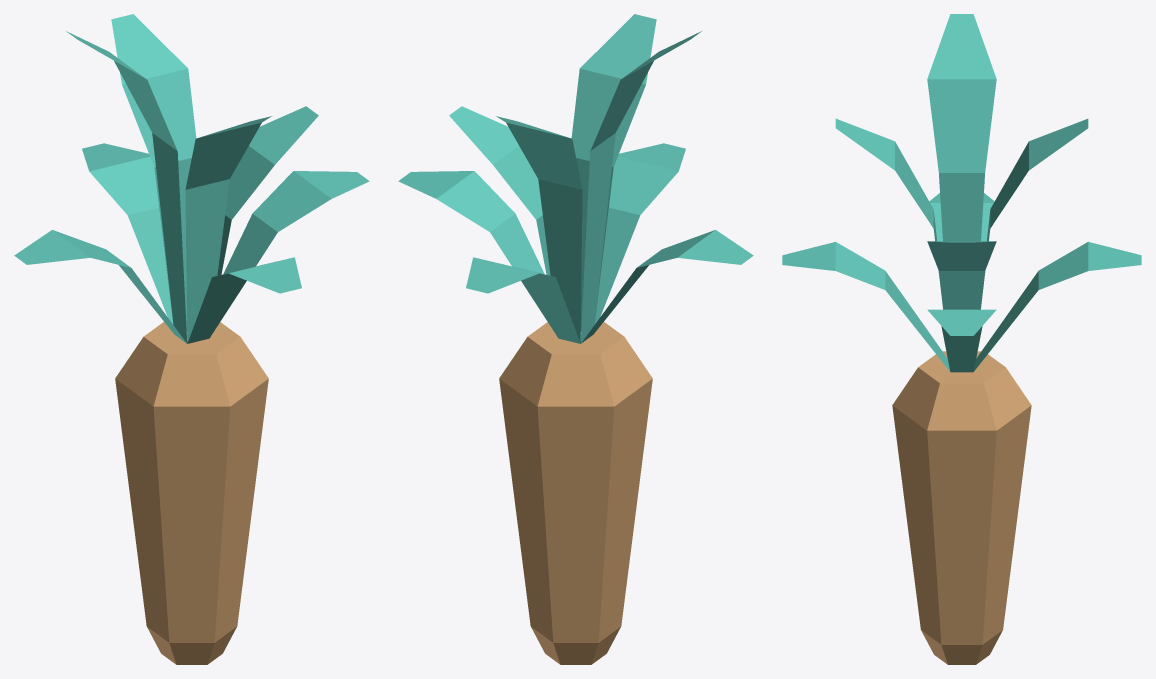
File: crop_carrot.glb
The picture shows the model from 3 angles, left to right: view 1: azimuth 30°, elevation 25°; view 2: azimuth 150°, elevation 25°; view 3: azimuth 270°, elevation 25°; orthographic projection. The views are drawn at different scales.
Parts seen in each view (by area): view 1: crop_carrot; view 2: crop_carrot; view 3: crop_carrot.
Boxes of the visible parts, x1,y1,x2,y2 form: crop_carrot: [14, 14, 369, 664]; crop_carrot: [398, 14, 753, 664]; crop_carrot: [782, 14, 1141, 664].
Bounding box in the file's own units: 0.3431 × 0.6194 × 0.3431.
